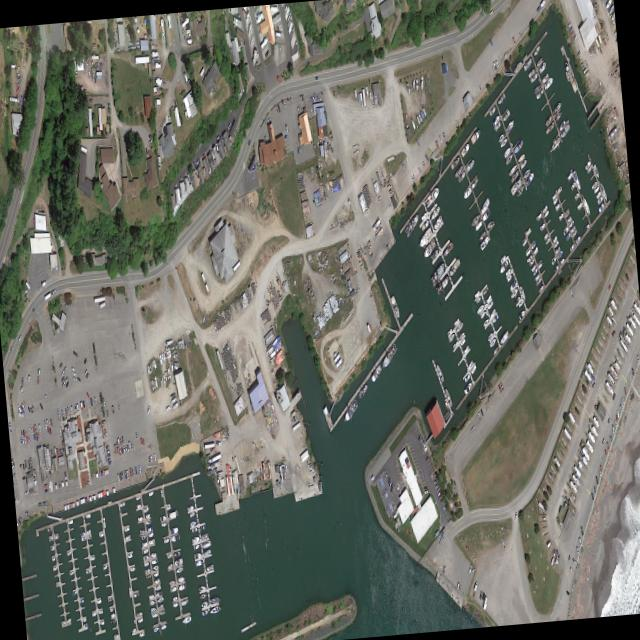large-vehicle: (630, 306, 640, 325), (568, 409, 578, 427), (208, 450, 221, 463), (98, 299, 106, 308), (44, 290, 51, 300), (366, 322, 371, 334), (546, 538, 552, 548), (17, 402, 22, 412), (474, 579, 478, 591), (540, 0, 546, 7), (242, 6, 247, 14)
ship: (381, 340, 397, 370), (430, 258, 446, 287), (563, 59, 577, 92), (342, 396, 358, 424), (404, 210, 420, 237), (425, 183, 440, 208), (435, 272, 450, 295), (418, 225, 432, 249), (422, 236, 436, 259), (510, 173, 523, 196), (448, 256, 460, 277), (370, 361, 382, 382), (390, 293, 400, 318), (549, 134, 561, 153), (470, 125, 481, 145), (429, 203, 441, 221), (442, 239, 454, 257), (480, 195, 490, 215), (357, 381, 368, 399), (582, 194, 591, 215), (470, 210, 481, 227), (479, 233, 490, 250), (465, 155, 475, 173), (545, 118, 555, 136), (435, 361, 444, 381), (444, 386, 453, 406), (543, 74, 554, 90), (573, 168, 581, 190), (524, 169, 534, 186), (560, 121, 570, 138), (513, 137, 523, 154), (499, 328, 509, 345), (599, 180, 607, 201), (450, 154, 460, 170), (552, 99, 562, 115), (460, 141, 470, 157), (510, 166, 519, 183), (433, 213, 442, 230), (523, 54, 532, 71), (499, 257, 508, 274), (454, 162, 463, 178), (538, 58, 547, 74), (516, 181, 525, 196), (508, 161, 517, 176), (503, 143, 512, 158), (457, 168, 466, 182), (430, 246, 439, 260), (608, 124, 617, 138), (463, 185, 471, 200), (505, 150, 513, 165), (421, 217, 429, 232), (510, 284, 518, 299), (464, 379, 472, 394), (519, 283, 526, 300), (535, 86, 544, 99), (482, 207, 490, 221), (554, 108, 562, 122), (492, 112, 500, 126), (497, 91, 505, 105), (506, 117, 514, 131), (497, 129, 505, 143), (530, 70, 538, 84), (455, 319, 463, 333), (181, 613, 191, 624), (168, 507, 178, 518), (474, 218, 482, 231), (471, 175, 479, 188), (522, 166, 530, 179), (502, 108, 510, 121), (558, 118, 566, 131), (519, 156, 527, 169), (500, 135, 508, 148), (476, 301, 484, 314), (478, 228, 486, 241), (201, 538, 211, 548), (209, 604, 220, 613), (210, 594, 221, 603), (545, 112, 552, 126), (486, 217, 494, 229), (541, 71, 549, 83), (518, 307, 526, 319), (489, 335, 497, 347), (533, 43, 540, 56), (533, 81, 540, 94), (487, 329, 494, 342), (517, 151, 525, 162), (489, 103, 496, 115), (494, 119, 501, 131), (593, 163, 599, 177), (536, 55, 543, 67), (528, 66, 535, 78), (489, 306, 496, 318), (448, 330, 455, 342), (482, 284, 489, 296), (174, 556, 183, 565), (170, 532, 179, 541), (608, 2, 614, 15), (591, 178, 598, 189), (584, 158, 591, 169), (596, 193, 603, 204), (491, 312, 498, 323), (492, 343, 499, 354), (509, 279, 516, 290), (458, 329, 465, 340), (178, 581, 186, 590), (180, 597, 189, 605), (170, 525, 179, 533), (191, 534, 200, 542), (470, 362, 476, 374), (443, 397, 449, 409), (410, 117, 416, 129), (563, 224, 569, 235), (598, 201, 604, 212), (487, 298, 493, 309), (483, 315, 489, 326), (514, 293, 520, 304), (505, 265, 511, 276), (464, 371, 470, 382), (557, 247, 563, 258), (158, 351, 163, 364), (201, 607, 209, 615), (175, 565, 183, 573), (177, 574, 185, 582), (203, 547, 211, 555), (605, 0, 612, 9), (421, 210, 427, 220), (575, 233, 581, 243), (584, 221, 590, 231), (452, 338, 458, 348), (525, 246, 531, 256), (526, 252, 532, 262), (532, 266, 538, 276), (535, 275, 541, 285), (500, 252, 506, 262), (463, 343, 469, 353), (542, 203, 548, 213), (539, 220, 545, 230), (553, 238, 559, 248), (419, 107, 424, 119), (198, 583, 206, 590), (200, 599, 208, 606), (195, 558, 203, 565), (194, 551, 202, 558), (154, 374, 158, 388), (199, 522, 206, 530), (157, 602, 164, 610), (507, 271, 512, 282), (486, 292, 491, 303), (422, 105, 427, 116), (569, 241, 575, 250), (565, 230, 571, 239), (593, 184, 599, 193), (568, 218, 574, 227), (554, 201, 560, 210), (474, 288, 480, 297), (525, 226, 531, 235), (538, 283, 544, 292), (551, 255, 557, 264), (543, 208, 549, 217), (536, 211, 542, 220), (152, 355, 156, 368), (365, 83, 369, 96), (406, 80, 410, 93), (572, 227, 577, 237), (587, 163, 592, 173), (558, 210, 563, 220), (577, 199, 582, 209), (570, 179, 575, 189), (480, 308, 485, 318), (529, 256, 534, 266), (554, 262, 559, 272), (522, 236, 527, 246), (503, 544, 508, 554), (396, 484, 401, 494), (200, 591, 207, 598), (168, 578, 175, 585), (206, 563, 213, 570), (193, 542, 200, 549), (201, 532, 208, 539), (187, 503, 194, 510), (157, 595, 164, 602), (132, 590, 139, 597), (167, 561, 173, 569), (160, 351, 164, 363), (172, 400, 178, 408), (165, 345, 169, 357), (167, 345, 171, 357), (565, 69, 569, 81), (534, 272, 540, 280), (181, 337, 185, 349), (596, 189, 601, 198), (553, 195, 558, 204), (570, 223, 575, 232), (565, 208, 570, 217), (556, 184, 561, 193), (574, 190, 579, 199), (567, 170, 572, 179), (454, 316, 459, 325), (518, 298, 523, 307), (476, 294, 481, 303), (531, 262, 536, 271), (447, 326, 452, 335), (460, 336, 465, 345), (468, 359, 473, 368), (560, 255, 565, 264), (420, 74, 423, 89), (167, 367, 171, 378), (560, 44, 564, 55), (128, 585, 132, 596), (357, 91, 361, 102), (368, 90, 372, 101), (416, 113, 420, 124), (418, 111, 422, 122), (170, 585, 177, 591), (160, 622, 167, 628), (191, 525, 197, 532), (190, 519, 196, 526), (170, 391, 176, 398), (171, 395, 177, 402), (143, 505, 149, 512), (136, 610, 143, 616), (110, 616, 116, 623), (154, 583, 161, 589), (153, 569, 159, 576), (142, 546, 148, 553), (148, 537, 155, 543), (102, 562, 108, 569), (98, 530, 104, 537), (145, 572, 151, 579), (46, 525, 52, 532), (415, 77, 418, 91), (146, 363, 150, 373), (162, 350, 166, 360), (162, 373, 166, 383), (537, 260, 542, 268), (545, 235, 550, 243), (543, 231, 548, 239), (533, 245, 538, 253), (552, 234, 557, 242), (555, 245, 560, 253), (163, 536, 169, 542), (174, 550, 180, 556), (172, 594, 178, 600), (153, 625, 159, 631), (160, 514, 166, 520), (189, 510, 195, 516), (150, 605, 156, 611), (148, 363, 152, 372), (151, 378, 154, 390), (531, 240, 535, 249), (137, 514, 143, 520), (119, 500, 125, 506), (123, 525, 129, 531), (137, 616, 143, 622), (148, 489, 154, 495), (145, 518, 151, 524), (156, 589, 162, 595), (154, 577, 160, 583), (144, 566, 150, 572), (153, 563, 159, 569), (151, 557, 157, 563), (139, 527, 145, 533), (103, 515, 106, 527), (91, 609, 97, 615), (354, 87, 357, 99), (412, 76, 415, 88), (165, 404, 170, 411), (151, 611, 158, 616), (170, 359, 173, 370), (567, 214, 571, 222), (166, 503, 171, 509), (160, 487, 163, 497), (164, 348, 167, 358), (179, 338, 182, 348), (177, 338, 180, 348), (173, 363, 178, 369), (171, 348, 176, 354), (149, 599, 155, 604), (148, 592, 154, 597), (107, 595, 113, 600), (125, 533, 130, 539), (127, 552, 132, 558), (129, 565, 135, 570), (138, 631, 144, 636), (131, 626, 136, 632), (147, 525, 153, 530), (150, 551, 156, 556), (143, 554, 149, 559), (147, 531, 153, 536), (141, 533, 146, 539), (109, 605, 114, 611), (98, 607, 103, 613), (96, 597, 101, 603), (84, 512, 90, 517), (80, 530, 85, 536), (90, 554, 95, 560), (72, 589, 77, 595), (67, 518, 73, 523), (52, 564, 57, 570), (54, 533, 59, 539), (66, 616, 71, 622), (189, 57, 194, 63), (83, 621, 88, 627), (50, 544, 55, 550), (55, 579, 60, 585), (151, 358, 154, 367), (164, 371, 167, 380), (166, 369, 169, 378), (161, 375, 164, 384), (167, 552, 172, 557), (173, 601, 178, 606), (159, 608, 164, 613), (161, 520, 166, 525), (173, 352, 178, 357), (145, 512, 150, 517), (136, 502, 141, 507), (135, 494, 140, 499), (110, 611, 115, 616), (144, 560, 149, 565), (142, 540, 147, 545), (99, 619, 104, 624), (79, 597, 84, 602), (86, 528, 91, 533), (87, 533, 92, 538), (81, 535, 86, 540), (69, 569, 74, 574), (66, 549, 71, 554), (61, 619, 66, 624), (86, 567, 90, 573), (49, 535, 53, 541), (113, 633, 119, 637), (160, 378, 163, 386), (174, 360, 179, 364), (82, 616, 86, 621), (51, 555, 55, 560), (89, 625, 92, 631)
small-vehicle: (41, 278, 47, 286), (499, 380, 504, 389), (572, 555, 577, 564), (569, 287, 573, 298), (579, 437, 583, 447), (577, 447, 582, 455), (572, 33, 577, 41), (618, 329, 622, 339), (477, 410, 481, 420), (215, 141, 219, 151), (16, 83, 20, 93), (401, 160, 405, 170), (438, 133, 442, 143), (235, 10, 240, 18), (468, 563, 472, 572), (498, 383, 502, 392), (569, 564, 573, 573), (489, 36, 493, 45), (114, 38, 118, 47), (329, 142, 333, 151), (435, 139, 439, 148), (44, 391, 48, 400), (470, 424, 475, 431), (438, 492, 443, 499), (71, 369, 76, 376), (595, 473, 598, 484), (580, 524, 583, 535), (9, 420, 12, 431), (129, 466, 132, 477), (121, 469, 124, 480), (612, 391, 616, 399), (591, 372, 595, 380), (536, 3, 540, 11), (512, 34, 516, 42), (567, 19, 571, 27), (569, 24, 573, 32), (601, 436, 605, 444), (495, 58, 499, 66), (220, 134, 224, 142), (493, 60, 497, 68), (416, 137, 420, 145), (265, 48, 269, 56), (298, 103, 302, 111), (17, 516, 21, 524), (83, 356, 87, 364), (39, 401, 43, 409), (61, 379, 65, 387), (17, 409, 21, 417), (21, 401, 25, 409), (22, 399, 26, 407), (63, 364, 67, 372), (86, 390, 90, 398), (614, 417, 617, 427), (588, 416, 591, 426), (606, 439, 609, 449), (578, 535, 581, 545), (51, 287, 56, 293), (277, 102, 280, 112), (24, 457, 27, 467), (38, 421, 41, 431), (124, 468, 127, 478), (128, 439, 131, 449), (424, 488, 429, 494), (390, 481, 393, 491), (43, 418, 46, 428), (76, 401, 79, 411), (611, 328, 615, 335), (570, 29, 574, 36), (442, 503, 446, 510), (437, 488, 441, 495), (435, 481, 439, 488), (201, 151, 205, 158), (422, 160, 426, 167), (247, 137, 251, 144), (425, 453, 429, 460), (25, 509, 29, 516), (65, 379, 69, 386), (29, 405, 33, 412), (418, 433, 422, 440), (9, 344, 13, 351), (60, 369, 64, 376), (85, 371, 89, 378), (73, 349, 77, 356), (71, 364, 75, 371), (616, 408, 619, 417), (615, 413, 618, 422), (611, 423, 614, 432), (609, 433, 612, 442), (624, 385, 627, 394), (369, 322, 372, 331), (622, 325, 625, 334), (636, 352, 639, 361), (501, 536, 504, 545), (482, 590, 485, 599), (479, 589, 482, 598), (598, 467, 601, 476), (591, 490, 594, 499), (576, 544, 579, 553), (556, 547, 559, 556), (193, 159, 196, 168), (195, 167, 198, 176), (125, 25, 128, 34), (428, 145, 431, 154), (298, 144, 301, 153), (285, 122, 288, 131), (297, 104, 300, 113), (64, 470, 67, 479), (35, 431, 38, 440), (29, 455, 32, 464), (56, 446, 59, 455), (53, 445, 56, 454), (27, 457, 30, 466), (138, 463, 141, 472), (134, 464, 137, 473), (126, 468, 129, 477), (111, 404, 114, 413), (106, 408, 109, 417), (102, 396, 105, 405), (147, 404, 150, 413), (119, 436, 122, 445), (18, 332, 21, 341), (27, 372, 30, 381), (90, 396, 93, 405), (80, 400, 83, 409), (127, 44, 132, 49), (101, 418, 106, 423), (620, 398, 623, 406), (587, 382, 591, 388), (564, 494, 568, 500), (561, 493, 565, 499), (607, 415, 610, 423), (621, 394, 624, 402), (608, 281, 611, 289), (631, 366, 634, 374), (480, 407, 483, 415), (465, 544, 469, 550), (593, 484, 596, 492), (568, 552, 571, 560), (555, 555, 558, 563), (196, 157, 199, 165), (210, 145, 213, 153), (310, 94, 313, 102), (313, 91, 316, 99), (316, 92, 319, 100), (318, 91, 321, 99), (228, 121, 231, 129), (239, 87, 242, 95), (266, 116, 270, 122), (296, 145, 299, 153), (436, 485, 440, 491), (126, 442, 129, 450), (119, 471, 122, 479), (82, 398, 85, 406), (48, 425, 51, 433), (21, 436, 24, 444), (33, 422, 36, 430), (30, 425, 33, 433), (20, 428, 23, 436), (22, 427, 25, 435), (135, 430, 138, 438), (131, 466, 134, 474), (140, 435, 143, 443), (387, 475, 390, 483), (153, 452, 156, 460), (130, 440, 133, 448), (124, 443, 127, 451), (116, 445, 119, 453), (121, 434, 124, 442), (57, 407, 60, 415), (45, 417, 48, 425), (65, 374, 68, 382), (73, 374, 77, 380), (61, 374, 64, 382), (70, 404, 73, 412), (66, 405, 69, 413), (255, 58, 258, 65), (604, 448, 607, 455), (619, 403, 622, 410), (592, 381, 595, 388), (599, 464, 602, 471), (145, 146, 148, 153), (173, 97, 176, 104), (12, 471, 15, 478), (312, 94, 315, 101), (411, 174, 414, 181), (418, 166, 421, 173), (442, 131, 445, 138), (492, 64, 495, 71), (283, 100, 286, 107), (31, 403, 34, 410), (27, 405, 30, 412), (28, 426, 31, 433), (27, 434, 30, 441), (23, 436, 26, 443), (58, 447, 61, 454), (20, 403, 23, 410), (84, 367, 87, 374), (515, 510, 517, 520), (566, 589, 570, 594), (148, 132, 152, 137), (131, 44, 136, 48), (216, 134, 220, 139), (314, 74, 318, 79), (283, 133, 287, 138), (24, 489, 28, 494), (44, 487, 48, 492), (106, 448, 110, 453), (423, 484, 427, 489), (105, 443, 109, 448), (107, 456, 111, 461), (21, 375, 23, 385), (577, 48, 580, 54), (490, 8, 493, 14), (443, 564, 445, 573), (550, 471, 553, 477), (184, 34, 186, 43), (88, 69, 90, 78), (389, 201, 392, 207), (425, 153, 428, 159), (19, 514, 22, 520), (77, 375, 80, 381), (59, 361, 62, 367), (32, 425, 35, 431), (37, 374, 39, 383), (135, 39, 139, 43), (155, 55, 159, 59), (148, 147, 150, 155), (148, 138, 152, 142), (162, 80, 166, 84), (182, 25, 184, 33), (187, 171, 189, 179), (129, 40, 133, 44), (116, 47, 120, 51), (25, 82, 27, 90), (89, 97, 93, 101), (20, 94, 22, 102), (136, 44, 140, 48), (121, 445, 123, 453), (42, 500, 46, 504), (60, 446, 62, 454), (38, 500, 42, 504), (22, 474, 26, 478), (103, 431, 107, 435), (142, 435, 144, 443), (119, 445, 121, 453), (50, 417, 52, 425), (48, 418, 50, 426), (108, 460, 112, 464), (457, 581, 459, 588), (168, 114, 170, 121), (94, 75, 96, 82), (116, 27, 118, 34), (372, 100, 374, 107), (264, 134, 266, 141), (26, 435, 28, 442), (20, 436, 22, 443), (37, 431, 39, 438), (33, 432, 35, 439), (118, 402, 120, 409), (148, 454, 150, 461), (150, 453, 152, 460), (123, 445, 125, 452), (47, 425, 49, 432), (94, 395, 96, 402), (74, 402, 76, 409), (65, 406, 67, 413), (459, 583, 461, 589), (542, 515, 545, 519), (22, 462, 24, 468), (44, 482, 47, 486), (103, 427, 106, 431), (389, 479, 391, 485), (107, 452, 110, 456), (61, 408, 63, 414), (180, 15, 181, 24), (113, 24, 114, 31)
